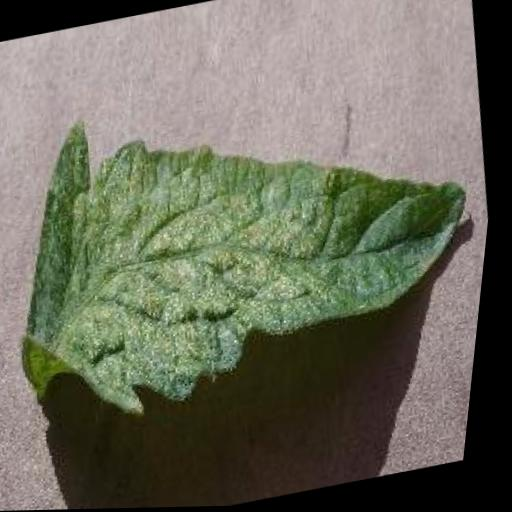Spider Mites: (0, 46, 508, 441)
